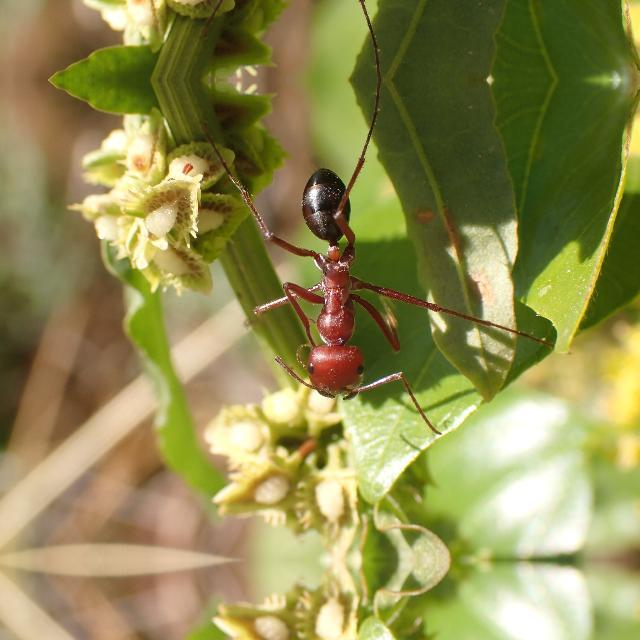Cataglyphis: (228, 142, 444, 426)
